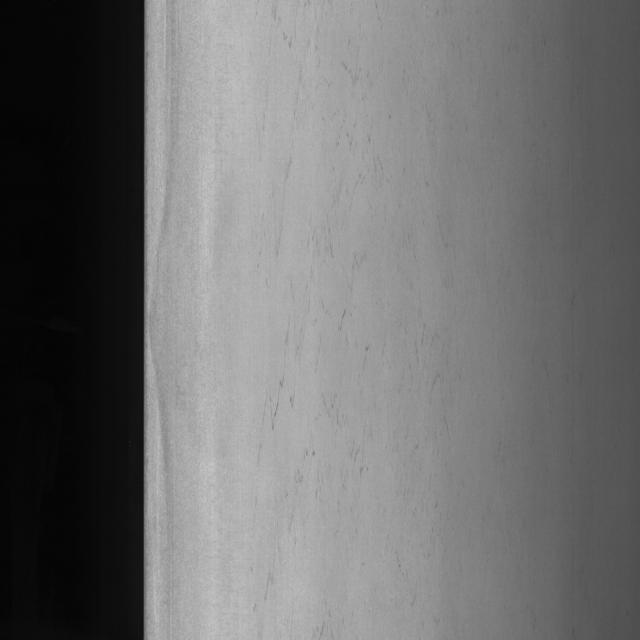inclusion: (260, 0, 433, 539)
